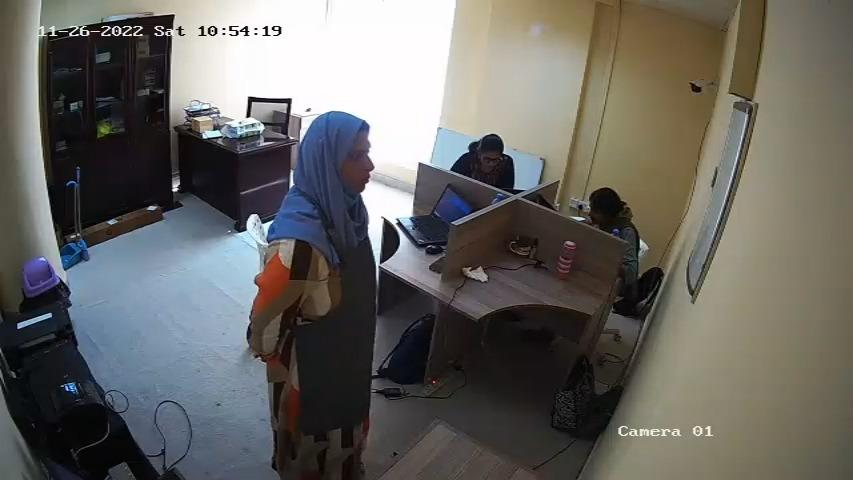apron: (288, 190, 381, 432), (429, 155, 430, 156)
